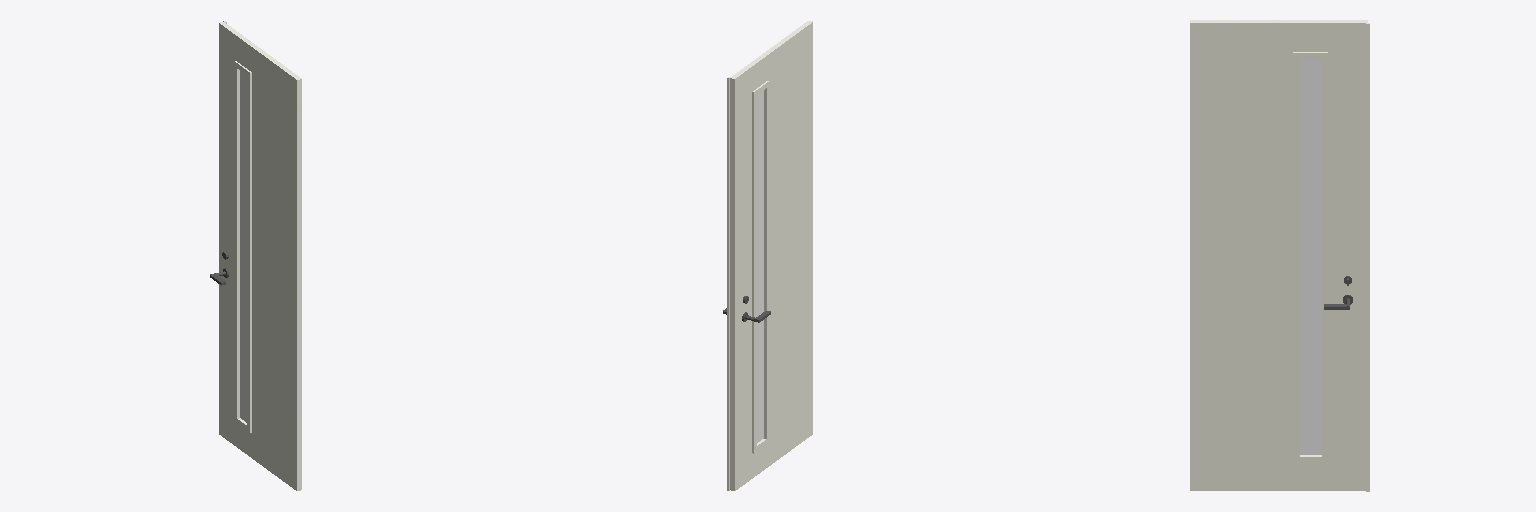
The robot description file, URDF, robot "room73b2-door-right":
<?xml version="1.0"?>
<robot name="room73b2-door-right"
       xmlns:xi="http://www.w3.org/2001/XInclude"
       >
  <gazebo>
    <static>false</static>
  </gazebo>
  <link name="ROOM73B2-DOOR-RIGHT-BODYSET2_link">
    <visual>
      <origin xyz="0 0 0" rpy="0 -0 0"/>
      <geometry>
        <mesh filename="model://room73b2-door-right/meshes/ROOM73B2-DOOR-RIGHT-BODYSET2_link_mesh.dae" scale="1 1 1" />
      </geometry>
    </visual>
    <collision>
      <origin xyz="0 0 0" rpy="0 -0 0"/>
      <geometry>
        <mesh filename="model://room73b2-door-right/meshes/ROOM73B2-DOOR-RIGHT-BODYSET2_link_mesh.dae" scale="1 1 1" />
      </geometry>
    </collision>
    <inertial>
      <mass value="0.001" />
      <origin xyz="0 0 0" rpy="0 -0 0"/>
      <inertia ixx="1e-03" ixy="0" ixz="0" iyy="1e-03" iyz="0" izz="1e-03"/>
    </inertial>
  </link>
  <gazebo reference="ROOM73B2-DOOR-RIGHT-BODYSET2_link">
    <mu1>0.9</mu1>
    <mu2>0.9</mu2>
  </gazebo>
  <link name="ROOM73B2-DOOR-RIGHT-BODYSET3_link">
    <visual>
      <origin xyz="-0.015 -0.39 0" rpy="0 -0 0"/>
      <geometry>
        <mesh filename="model://room73b2-door-right/meshes/ROOM73B2-DOOR-RIGHT-BODYSET3_link_mesh.dae" scale="1 1 1" />
      </geometry>
    </visual>
    <collision>
      <origin xyz="-0.015 -0.39 0" rpy="0 -0 0"/>
      <geometry>
        <mesh filename="model://room73b2-door-right/meshes/ROOM73B2-DOOR-RIGHT-BODYSET3_link_mesh.dae" scale="1 1 1" />
      </geometry>
    </collision>
    <inertial>
      <mass value="0.001" />
      <origin xyz="0 0 0" rpy="0 -0 0"/>
      <inertia ixx="1e-03" ixy="0" ixz="0" iyy="1e-03" iyz="0" izz="1e-03"/>
    </inertial>
  </link>
  <gazebo reference="ROOM73B2-DOOR-RIGHT-BODYSET3_link">
    <mu1>0.9</mu1>
    <mu2>0.9</mu2>
  </gazebo>
  <link name="ROOM73B2-DOOR-RIGHT-BODYSET5_link">
    <visual>
      <origin xyz="0.09 0.705 0.96" rpy="0 -0 0"/>
      <geometry>
        <mesh filename="model://room73b2-door-right/meshes/ROOM73B2-DOOR-RIGHT-BODYSET5_link_mesh.dae" scale="1 1 1" />
      </geometry>
    </visual>
    <collision>
      <origin xyz="0.09 0.705 0.96" rpy="0 -0 0"/>
      <geometry>
        <mesh filename="model://room73b2-door-right/meshes/ROOM73B2-DOOR-RIGHT-BODYSET5_link_mesh.dae" scale="1 1 1" />
      </geometry>
    </collision>
    <inertial>
      <mass value="0.001" />
      <origin xyz="0 5.55112e-17 0" rpy="0 -0 0"/>
      <inertia ixx="1e-03" ixy="0" ixz="0" iyy="1e-03" iyz="0" izz="1e-03"/>
    </inertial>
  </link>
  <gazebo reference="ROOM73B2-DOOR-RIGHT-BODYSET5_link">
    <mu1>0.9</mu1>
    <mu2>0.9</mu2>
  </gazebo>
  <link name="ROOM73B2-DOOR-RIGHT-BODYSET4_link">
    <visual>
      <origin xyz="0.03 0.705 1.06" rpy="0 -0 0"/>
      <geometry>
        <mesh filename="model://room73b2-door-right/meshes/ROOM73B2-DOOR-RIGHT-BODYSET4_link_mesh.dae" scale="1 1 1" />
      </geometry>
    </visual>
    <collision>
      <origin xyz="0.03 0.705 1.06" rpy="0 -0 0"/>
      <geometry>
        <mesh filename="model://room73b2-door-right/meshes/ROOM73B2-DOOR-RIGHT-BODYSET4_link_mesh.dae" scale="1 1 1" />
      </geometry>
    </collision>
    <inertial>
      <mass value="0.001" />
      <origin xyz="-0.09 -0.705 -0.96" rpy="0 -0 0"/>
      <inertia ixx="1e-03" ixy="0" ixz="0" iyy="1e-03" iyz="0" izz="1e-03"/>
    </inertial>
  </link>
  <gazebo reference="ROOM73B2-DOOR-RIGHT-BODYSET4_link">
    <mu1>0.9</mu1>
    <mu2>0.9</mu2>
  </gazebo>
  <joint name="DOOR" type="revolute">
    <parent link="ROOM73B2-DOOR-RIGHT-BODYSET2_link"/>
    <child  link="ROOM73B2-DOOR-RIGHT-BODYSET3_link"/>
    <origin xyz="-0.015 -0.39 0" rpy="0 -0 0 "/>
    <axis   xyz="0 0 -1"/>
    <limit lower="0" upper="1.5708" effort="100" velocity="0.5" />
    <dynamics damping="0.2" friction="0" />
  </joint>
  <transmission type="pr2_mechanism_model/SimpleTransmission" name="DOOR_trans" >
    <actuator name="DOOR_motor" />
    <joint name="DOOR" />
    <mechanicalReduction>1</mechanicalReduction>
  </transmission>
  <gazebo reference="DOOR">
    <cfmDamping>0.4</cfmDamping>
  </gazebo>
  <joint name="KNOB" type="revolute">
    <parent link="ROOM73B2-DOOR-RIGHT-BODYSET3_link"/>
    <child  link="ROOM73B2-DOOR-RIGHT-BODYSET5_link"/>
    <origin xyz="0.09 0.705 0.96" rpy="0 -0 0 "/>
    <axis   xyz="1 0 0"/>
    <limit lower="0" upper="1.5708" effort="100" velocity="0.5" />
    <dynamics damping="0.2" friction="0" />
  </joint>
  <transmission type="pr2_mechanism_model/SimpleTransmission" name="KNOB_trans" >
    <actuator name="KNOB_motor" />
    <joint name="KNOB" />
    <mechanicalReduction>1</mechanicalReduction>
  </transmission>
  <gazebo reference="KNOB">
    <cfmDamping>0.4</cfmDamping>
  </gazebo>
  <joint name="LOCK" type="revolute">
    <parent link="ROOM73B2-DOOR-RIGHT-BODYSET5_link"/>
    <child  link="ROOM73B2-DOOR-RIGHT-BODYSET4_link"/>
    <origin xyz="0.03 0.705 1.06" rpy="0 -0 0 "/>
    <axis   xyz="1 0 0"/>
    <limit lower="-1.5708" upper="0" effort="100" velocity="0.5" />
    <dynamics damping="0.2" friction="0" />
  </joint>
  <transmission type="pr2_mechanism_model/SimpleTransmission" name="LOCK_trans" >
    <actuator name="LOCK_motor" />
    <joint name="LOCK" />
    <mechanicalReduction>1</mechanicalReduction>
  </transmission>
  <gazebo reference="LOCK">
    <cfmDamping>0.4</cfmDamping>
  </gazebo>
</robot>

--- Render facts (derived) ---
Views: 3 orthographic renders of the robot side by side, from view 1: azimuth 30°, elevation 25°; view 2: azimuth 150°, elevation 25°; view 3: azimuth 270°, elevation 25°.
Model room73b2-door-right with 4 links and 3 joints (3 revolute), rooted at ROOM73B2-DOOR-RIGHT-BODYSET2_link, posed every joint at zero.
Visible links, largest first — view 1: ROOM73B2-DOOR-RIGHT-BODYSET3_link; view 2: ROOM73B2-DOOR-RIGHT-BODYSET3_link; view 3: ROOM73B2-DOOR-RIGHT-BODYSET3_link.
Boxes of the visible links, x1=… form: ROOM73B2-DOOR-RIGHT-BODYSET3_link: x1=219, y1=21, x2=301, y2=490; ROOM73B2-DOOR-RIGHT-BODYSET3_link: x1=727, y1=21, x2=812, y2=490; ROOM73B2-DOOR-RIGHT-BODYSET3_link: x1=1190, y1=20, x2=1369, y2=491.
Bounding box of the posed robot: 0.22 × 0.82 × 2.35 m (x, y, z).
4 mesh visuals loaded from 4 distinct referenced files (4 Collada DAE).